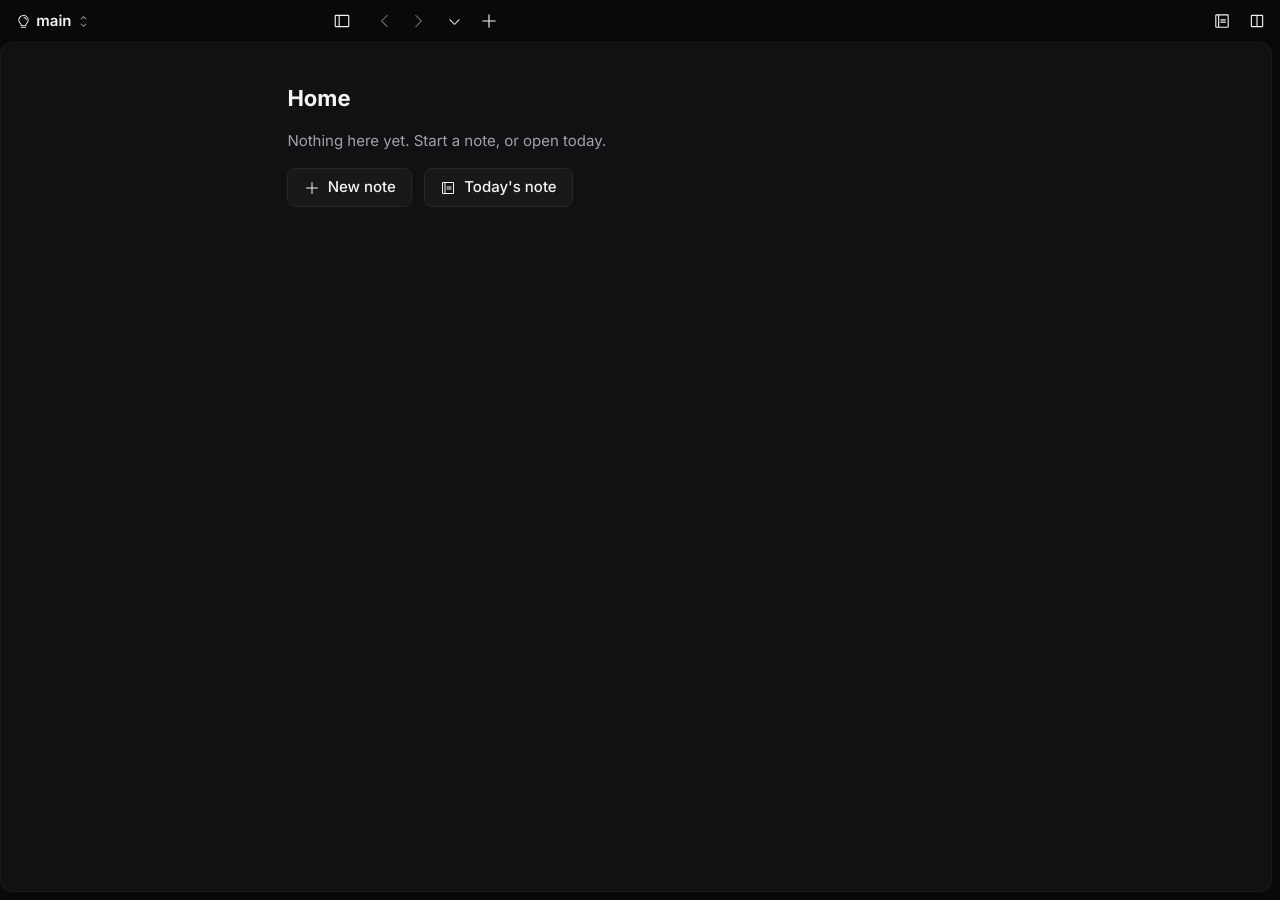
Scenario: the sidebar on start › collapsed when "Show the sidebar when Object opens" is off; Toggle sidebar shows it
Click the button named "Toggle sidebar": (342, 21) [327,6,358,36]
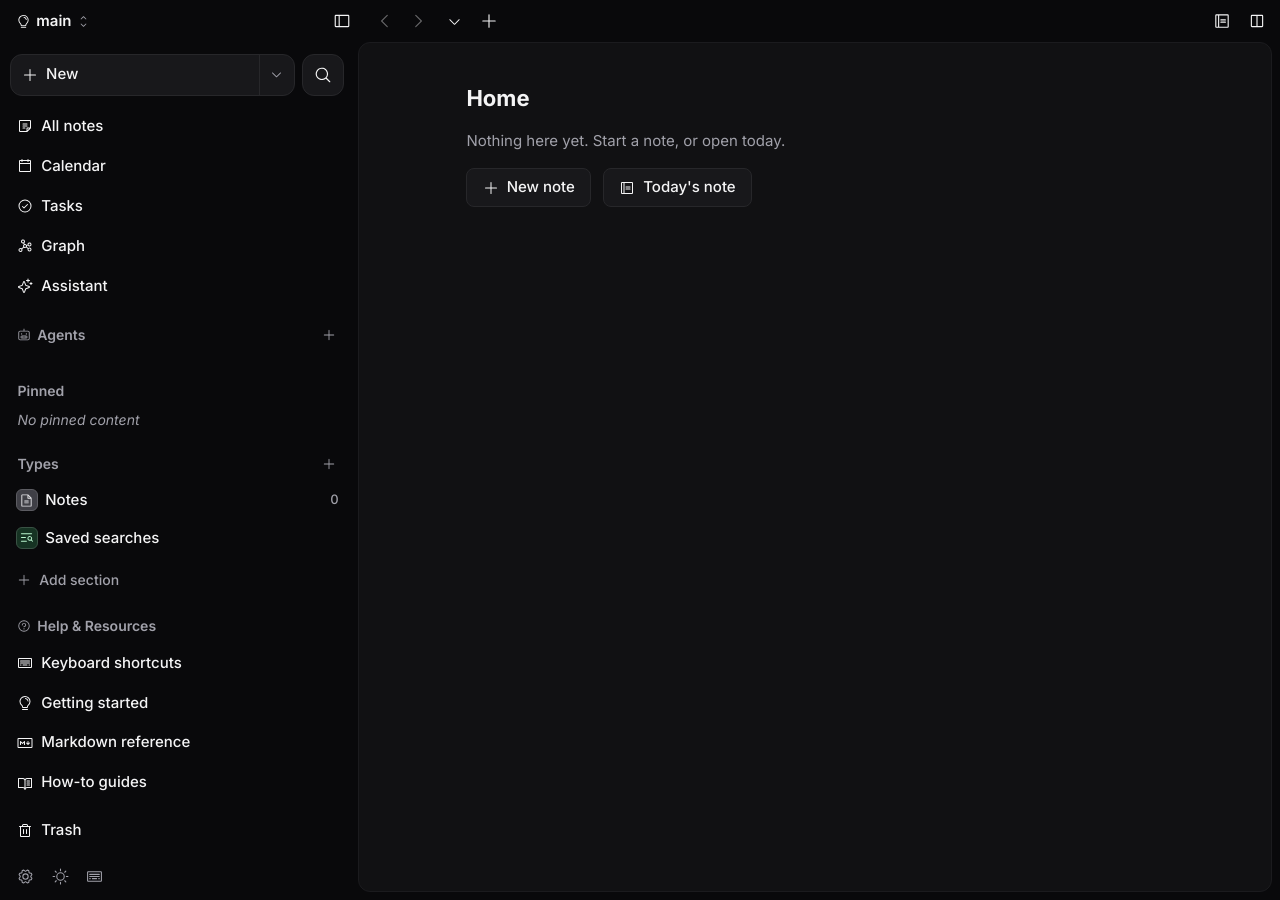
Expected: the element named "Sidebar" is shown, [0,42,358,899]
